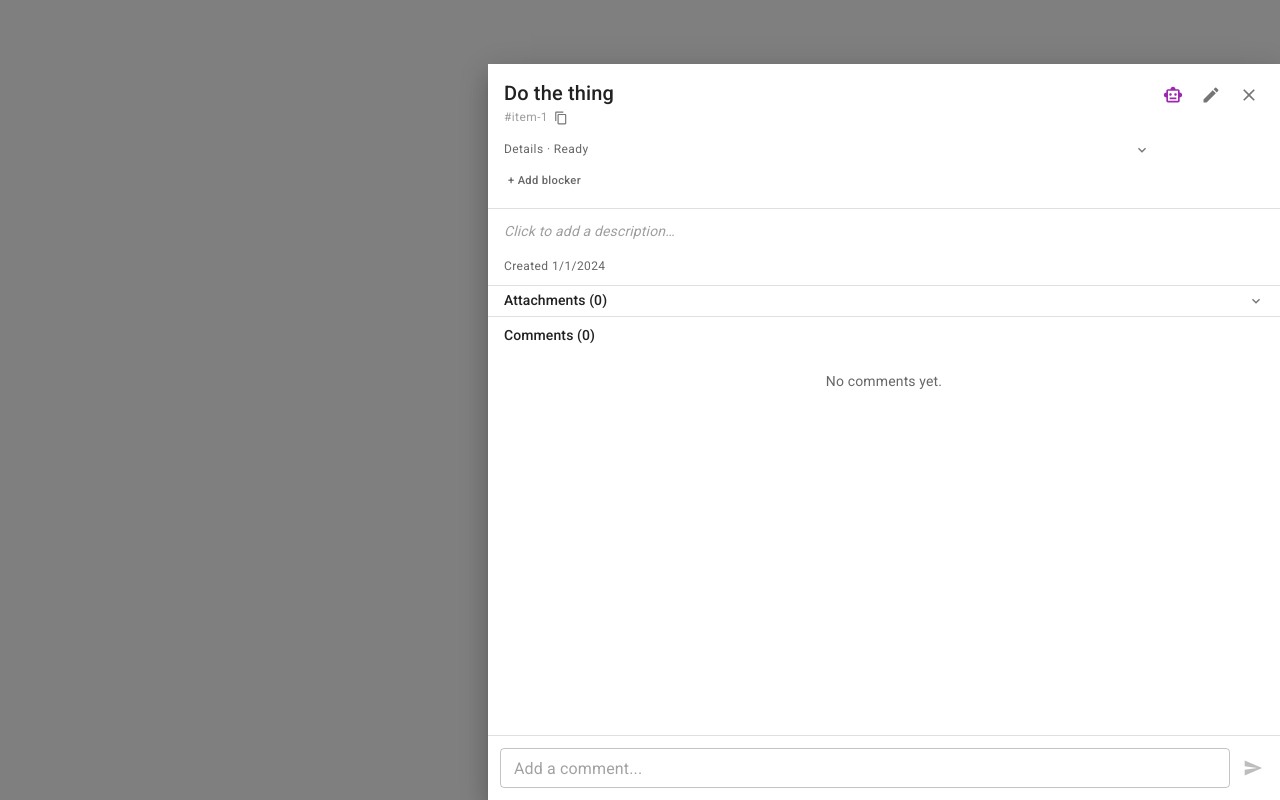
ItemDetailDrawer host Select drain indicator › renders no draining suffix for a host with a null drainReason
This screenshot has width=1280, height=800.
What coordinates should you click on to do the following:
click the button with test id "SmartToyOutlinedIcon"
I would click on:
 (1173, 95)
Its box is left=1158, top=80, right=1188, bottom=110.
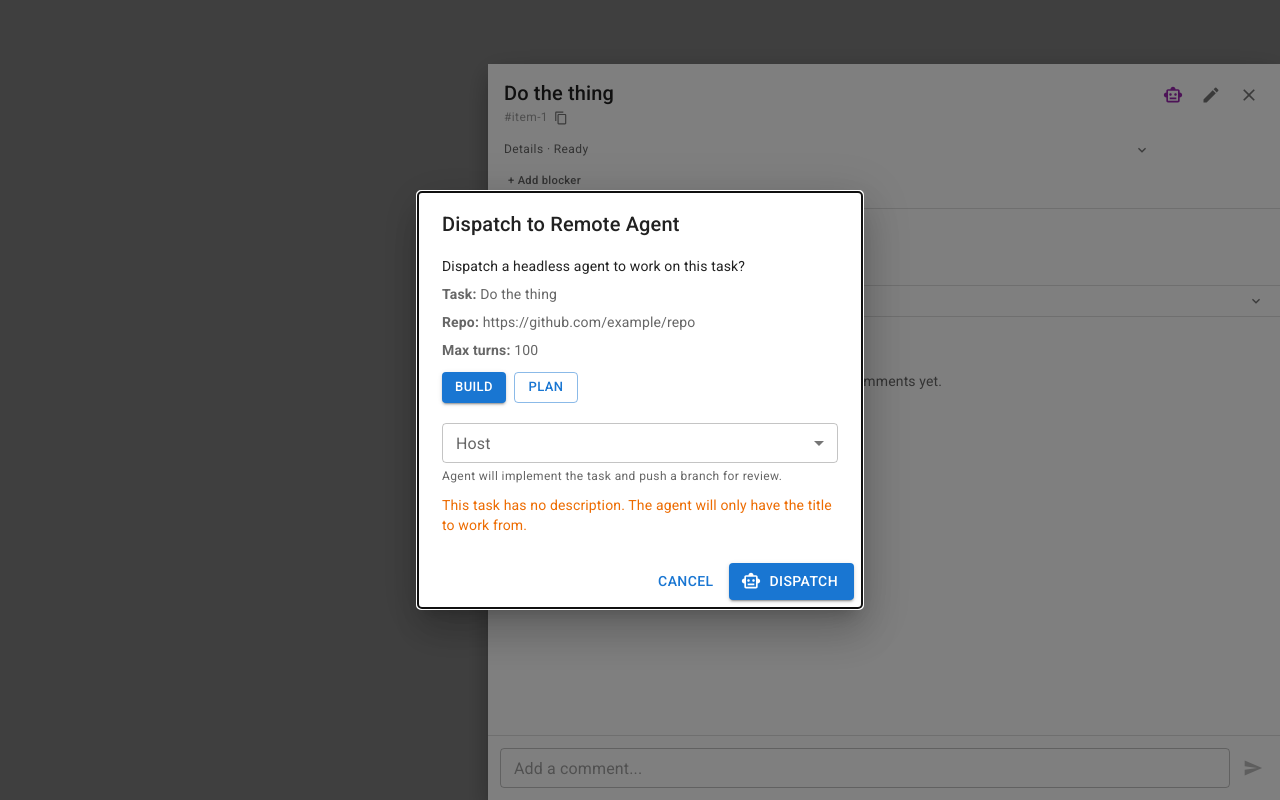
Expected: the heading "Dispatch to Remote Agent" is shown, left=442, top=212, right=680, bottom=236
What coordinates should you click on to do the following:
click the dropdown
I would click on:
 (640, 443)
Its box is left=442, top=423, right=838, bottom=463.
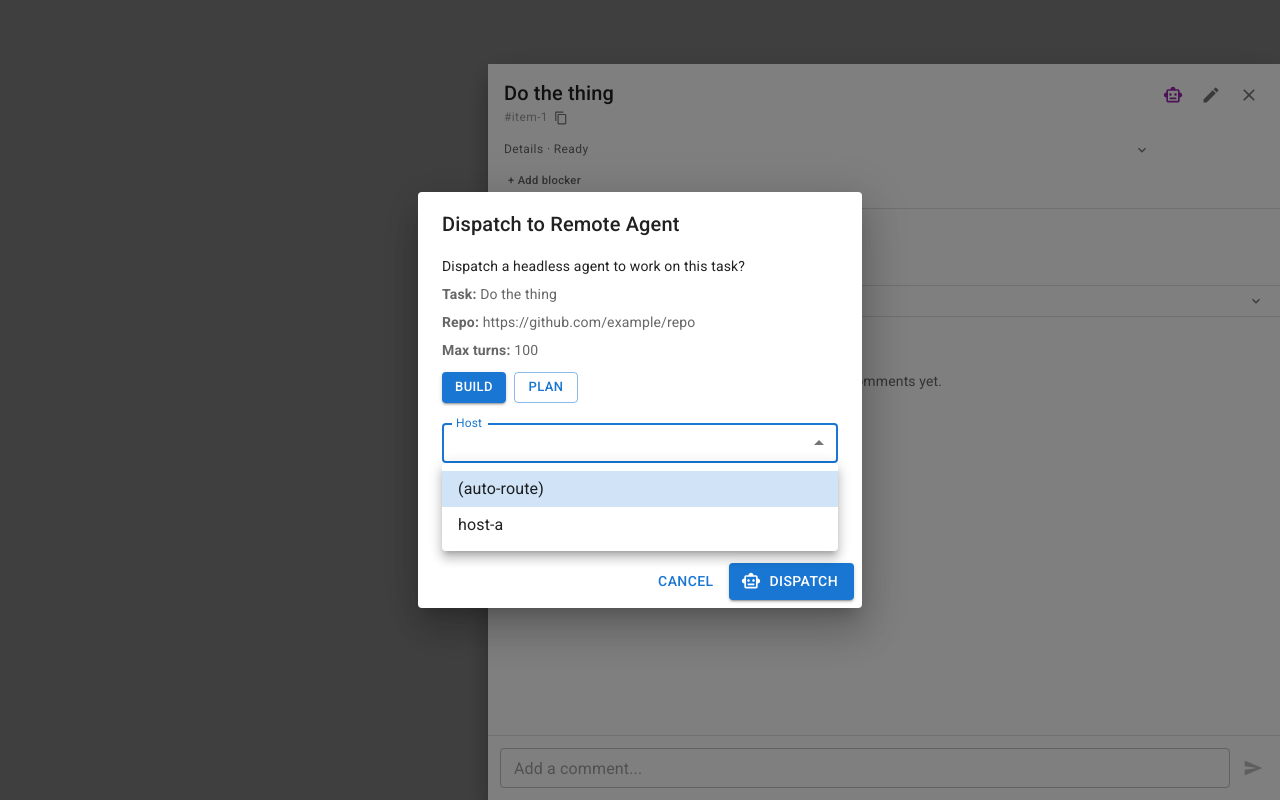
Expected: the option "host-a" is shown, left=458, top=515, right=504, bottom=534
